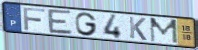4: (102, 13, 123, 40)
E: (46, 8, 74, 36)
F: (22, 7, 47, 32)
G: (74, 11, 99, 37)
K: (127, 16, 148, 42)
M: (148, 17, 179, 45)
